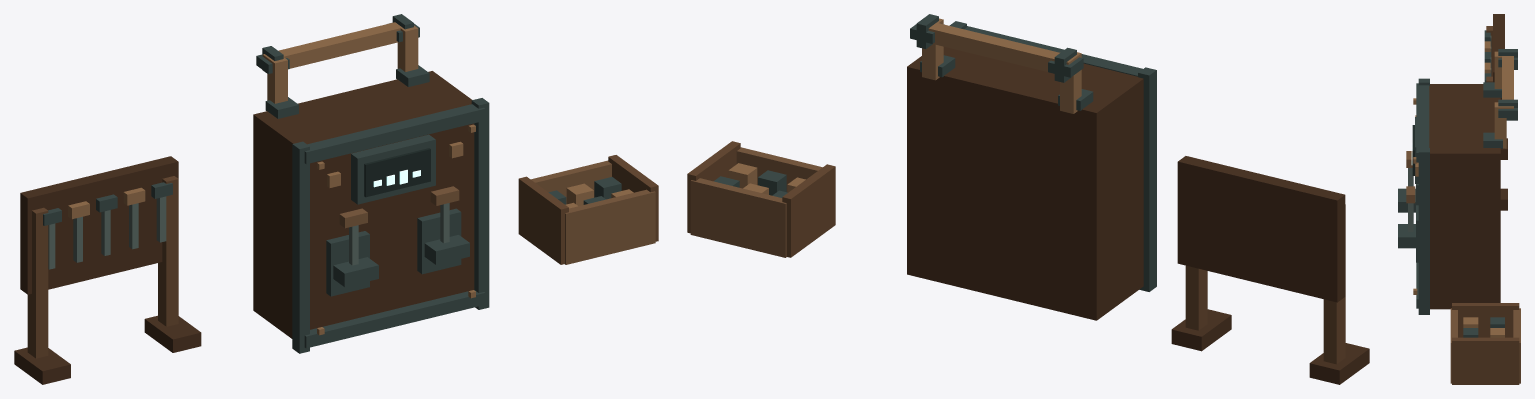
The model's file is B31_mechanism.glb.
The picture shows the model from 3 angles, left to right: view 1: azimuth 30°, elevation 25°; view 2: azimuth 150°, elevation 25°; view 3: azimuth 270°, elevation 25°; orthographic projection. The views are drawn at different scales.
Parts seen in each view (by area): view 1: B31_mechanism__main_station_CabinetBody_wooddark, B31_mechanism__main_station_CabinetEdge_iron, B31_mechanism__maintenance_ToolBoard_wooddark, B31_mechanism__parts_BinSide_woodlight, B31_mechanism__maintenance_ToolStand_wood, B31_mechanism__parts_BinSide_wood, B31_mechanism__main_station_Pipe_copper, B31_mechanism__main_station_SwitchPanel_iron, B31_mechanism__maintenance_ToolFoot_wooddark, B31_mechanism__main_station_ScreenFrame_iron, B31_mechanism__maintenance_ToolShaft_edge, B31_mechanism__main_station_Screen_black (+8 smaller); view 2: B31_mechanism__main_station_CabinetBody_wooddark, B31_mechanism__maintenance_ToolBoard_wooddark, B31_mechanism__parts_BinSide_woodlight, B31_mechanism__parts_BinSide_wood, B31_mechanism__main_station_CabinetEdge_iron, B31_mechanism__main_station_Pipe_copper, B31_mechanism__maintenance_ToolStand_wood, B31_mechanism__maintenance_ToolFoot_wooddark, B31_mechanism__main_station_PipeFlange_iron, B31_mechanism__parts_SortedScrap_copper, B31_mechanism__parts_SortedScrap_iron; view 3: B31_mechanism__main_station_CabinetBody_wooddark, B31_mechanism__parts_BinSide_wood, B31_mechanism__main_station_CabinetEdge_iron, B31_mechanism__main_station_Pipe_copper, B31_mechanism__main_station_PipeFlange_iron, B31_mechanism__main_station_LeverBase_iron, B31_mechanism__parts_BinSide_woodlight, B31_mechanism__maintenance_ToolBoard_wooddark, B31_mechanism__parts_SortedScrap_copper, B31_mechanism__parts_SortedScrap_iron, B31_mechanism__main_station_LeverGrip_woodlight, B31_mechanism__maintenance_ToolFoot_wooddark (+7 smaller).
Part boxes in pixels (bbox=[...]): B31_mechanism__main_station_CabinetBody_wooddark: bbox=[253, 71, 474, 338]; B31_mechanism__main_station_CabinetEdge_iron: bbox=[292, 98, 489, 353]; B31_mechanism__maintenance_ToolBoard_wooddark: bbox=[20, 156, 178, 294]; B31_mechanism__parts_BinSide_woodlight: bbox=[531, 160, 655, 264]; B31_mechanism__maintenance_ToolStand_wood: bbox=[27, 176, 178, 358]; B31_mechanism__parts_BinSide_wood: bbox=[518, 155, 658, 264]; B31_mechanism__main_station_Pipe_copper: bbox=[262, 22, 418, 103]; B31_mechanism__main_station_SwitchPanel_iron: bbox=[326, 208, 461, 296]; B31_mechanism__maintenance_ToolFoot_wooddark: bbox=[14, 315, 201, 384]; B31_mechanism__main_station_ScreenFrame_iron: bbox=[351, 134, 435, 204]; B31_mechanism__maintenance_ToolShaft_edge: bbox=[48, 196, 166, 269]; B31_mechanism__main_station_Screen_black: bbox=[364, 148, 430, 197]; B31_mechanism__main_station_CabinetBody_wooddark: bbox=[907, 46, 1143, 320]; B31_mechanism__maintenance_ToolBoard_wooddark: bbox=[1177, 156, 1345, 302]; B31_mechanism__parts_BinSide_woodlight: bbox=[690, 147, 822, 257]; B31_mechanism__parts_BinSide_wood: bbox=[687, 141, 835, 257]; B31_mechanism__main_station_CabinetEdge_iron: bbox=[949, 21, 1156, 291]; B31_mechanism__main_station_Pipe_copper: bbox=[922, 18, 1081, 113]; B31_mechanism__maintenance_ToolStand_wood: bbox=[1185, 204, 1345, 364]; B31_mechanism__maintenance_ToolFoot_wooddark: bbox=[1171, 309, 1369, 384]; B31_mechanism__main_station_PipeFlange_iron: bbox=[910, 14, 1093, 110]; B31_mechanism__parts_SortedScrap_copper: bbox=[728, 163, 805, 194]; B31_mechanism__parts_SortedScrap_iron: bbox=[714, 170, 787, 197]; B31_mechanism__main_station_CabinetBody_wooddark: bbox=[1429, 84, 1500, 309]; B31_mechanism__parts_BinSide_wood: bbox=[1452, 303, 1519, 384]; B31_mechanism__main_station_CabinetEdge_iron: bbox=[1416, 78, 1429, 314]; B31_mechanism__main_station_Pipe_copper: bbox=[1494, 51, 1513, 148]; B31_mechanism__main_station_PipeFlange_iron: bbox=[1483, 49, 1517, 148]; B31_mechanism__main_station_LeverBase_iron: bbox=[1398, 188, 1415, 248]; B31_mechanism__parts_BinSide_woodlight: bbox=[1450, 308, 1520, 383]; B31_mechanism__maintenance_ToolBoard_wooddark: bbox=[1493, 14, 1504, 148]; B31_mechanism__parts_SortedScrap_copper: bbox=[1463, 317, 1504, 337]; B31_mechanism__parts_SortedScrap_iron: bbox=[1463, 317, 1504, 337]; B31_mechanism__main_station_LeverGrip_woodlight: bbox=[1406, 151, 1415, 203]; B31_mechanism__maintenance_ToolFoot_wooddark: bbox=[1500, 138, 1507, 210].
Size of the model in its own units: 7.47 by 2.98 by 1.64.
